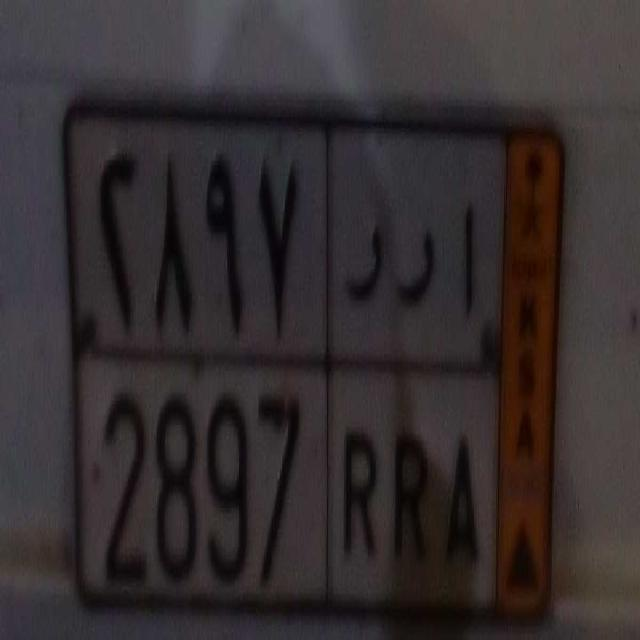license_plate: (77, 348, 500, 627)
